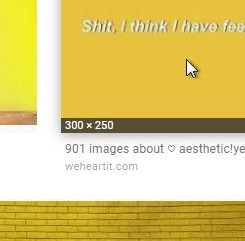cursor: (184, 57, 199, 79)
